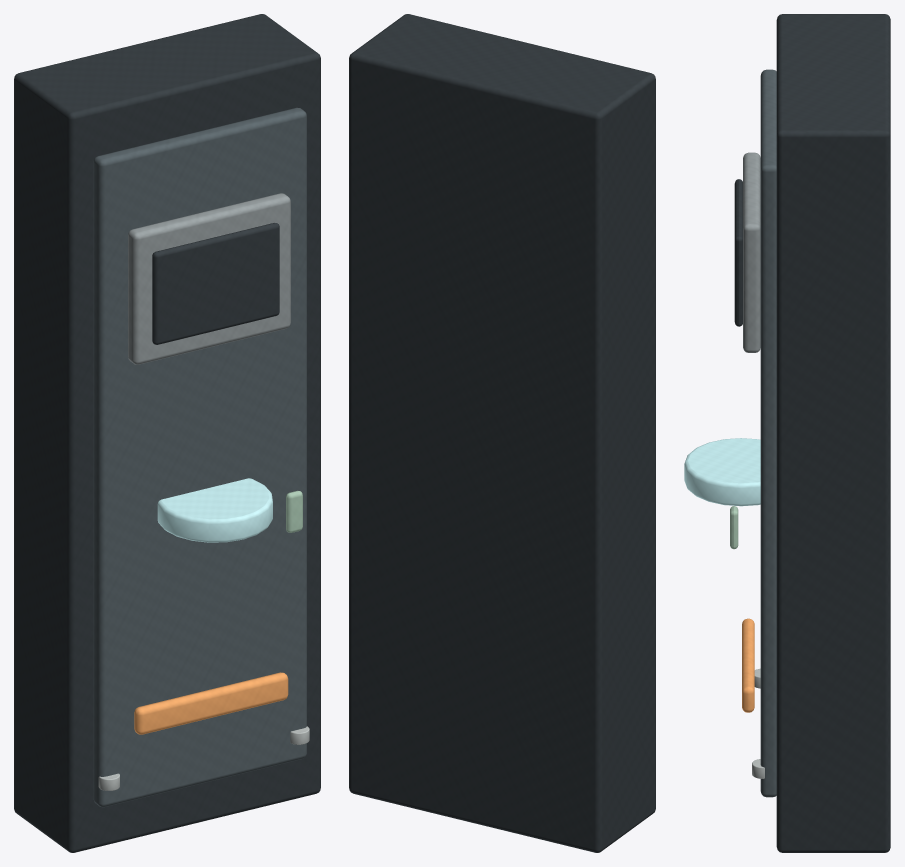
The model's file is BiometricScanner.glb.
3 views of the same model, side by side, from view 1: azimuth 30°, elevation 25°; view 2: azimuth 150°, elevation 25°; view 3: azimuth 270°, elevation 25° (orthographic). The views are drawn at different scales.
Visible parts, largest first — view 1: BiometricScanner_Mesh; view 2: BiometricScanner_Mesh; view 3: BiometricScanner_Mesh.
Part boxes in pixels (x1,y1,x2,y2): BiometricScanner_Mesh: [14, 14, 320, 852]; BiometricScanner_Mesh: [349, 14, 655, 852]; BiometricScanner_Mesh: [684, 14, 890, 852].
Bounding box in the file's own units: 0.4 × 1.12 × 0.29.
7 materials, 7 textured.
